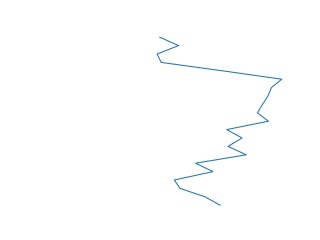floodPlain: (156, 35, 283, 209)
